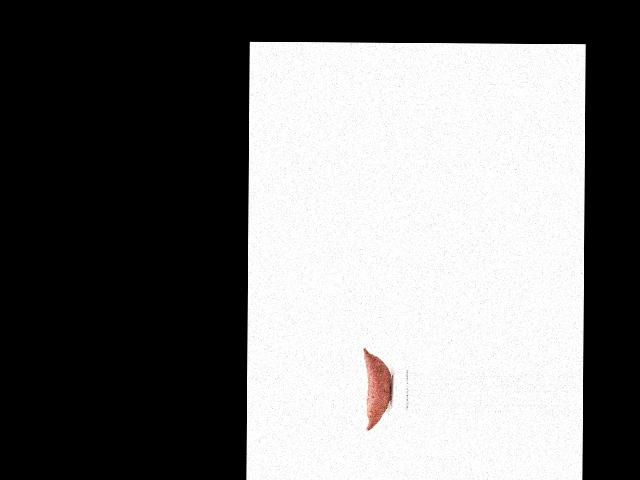sweet_potato: (358, 347, 392, 431)
